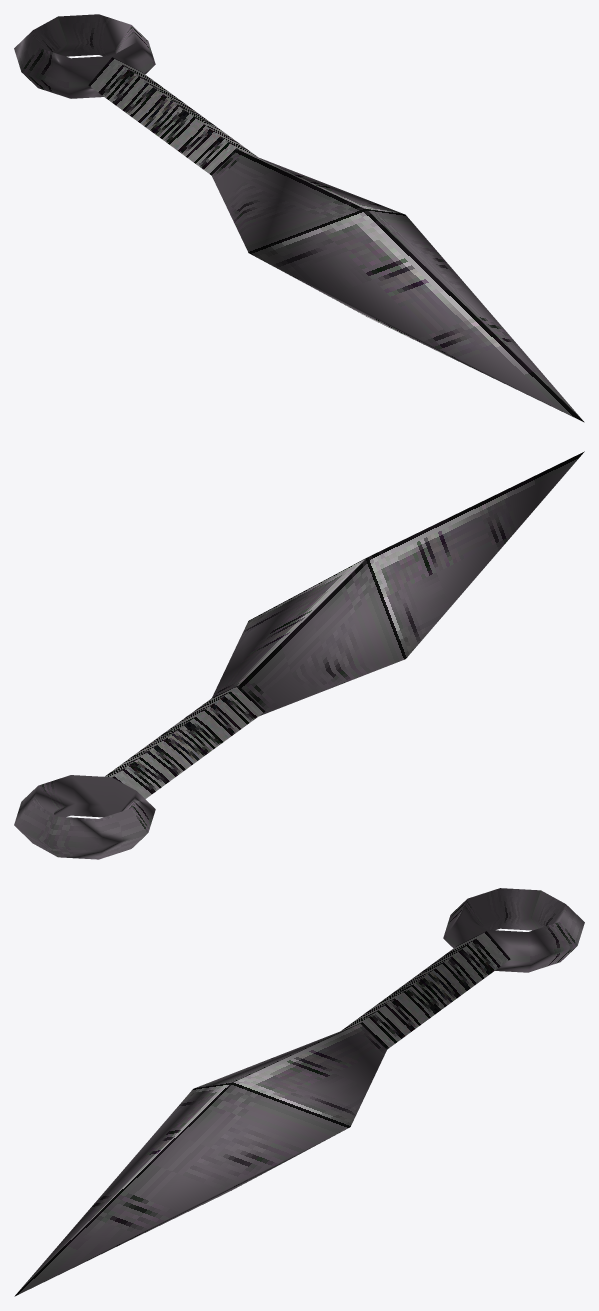
The model's file is kunai_bomb_3_base.fbx.
3 views of the same model, one above another, from view 1: azimuth 30°, elevation 25°; view 2: azimuth 150°, elevation 25°; view 3: azimuth 330°, elevation 25° (orthographic).
Parts seen in each view (by area): view 1: MilkshapeExported1; view 2: MilkshapeExported1; view 3: MilkshapeExported1.
Boxes of the visible parts, x1,y1,x2,y2 form: MilkshapeExported1: (14,14,584,422); MilkshapeExported1: (14,451,584,859); MilkshapeExported1: (14,888,584,1296).
Bounding box in the file's own units: 6.91 × 4.51 × 40.86.
